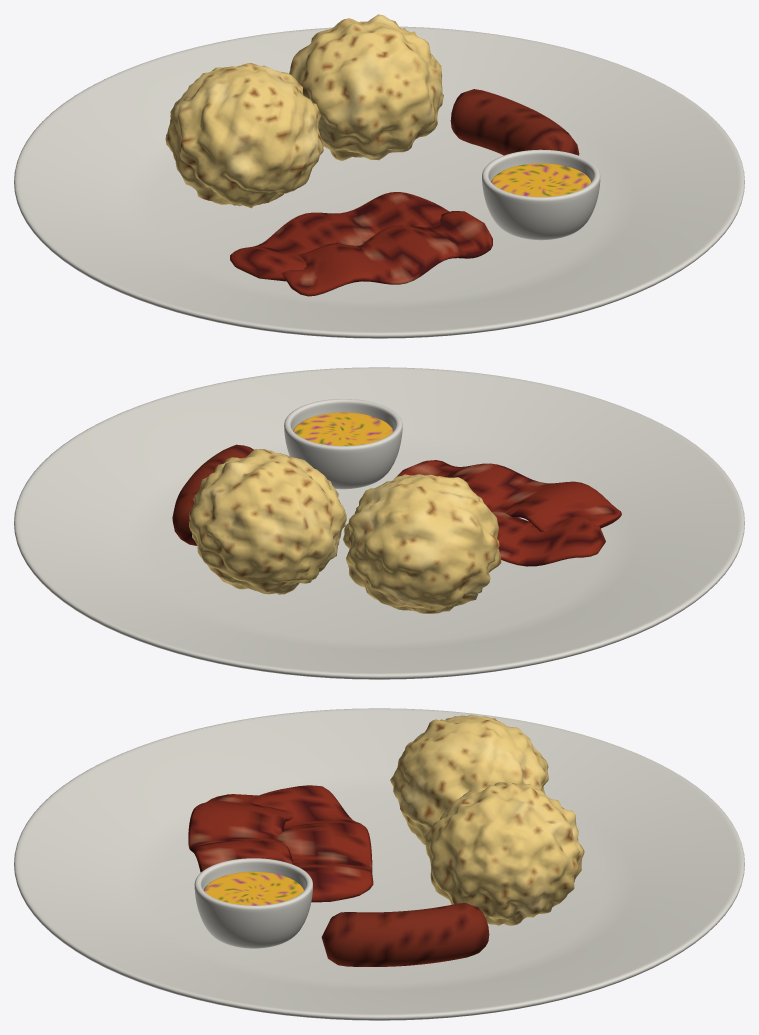
File: paso-5.glb
3 renders of one model, top to bottom at view 1: azimuth 30°, elevation 25°; view 2: azimuth 150°, elevation 25°; view 3: azimuth 270°, elevation 25°, orthographic.
Visible parts, largest first — view 1: paso-5-0, paso-5-1, paso-5-2, paso-5-4, paso-5-3, paso-5-6, paso-5-5, paso-5-7; view 2: paso-5-0, paso-5-1, paso-5-2, paso-5-4, paso-5-6, paso-5-3, paso-5-7, paso-5-5; view 3: paso-5-0, paso-5-2, paso-5-1, paso-5-5, paso-5-3, paso-5-6, paso-5-4, paso-5-7.
Part boxes in pixels (x1=…): paso-5-0: x1=14, y1=26, x2=744, y2=338; paso-5-1: x1=165, y1=63, x2=323, y2=208; paso-5-2: x1=289, y1=14, x2=443, y2=160; paso-5-4: x1=281, y1=211, x2=492, y2=296; paso-5-3: x1=230, y1=192, x2=449, y2=281; paso-5-6: x1=482, y1=149, x2=600, y2=240; paso-5-5: x1=450, y1=89, x2=579, y2=155; paso-5-7: x1=491, y1=163, x2=591, y2=196; paso-5-0: x1=14, y1=367, x2=744, y2=679; paso-5-1: x1=343, y1=474, x2=501, y2=613; paso-5-2: x1=189, y1=449, x2=346, y2=594; paso-5-4: x1=397, y1=460, x2=621, y2=531; paso-5-6: x1=284, y1=399, x2=402, y2=489; paso-5-3: x1=492, y1=511, x2=605, y2=566; paso-5-7: x1=293, y1=412, x2=393, y2=445; paso-5-5: x1=172, y1=444, x2=253, y2=545; paso-5-0: x1=14, y1=708, x2=744, y2=1020; paso-5-2: x1=425, y1=781, x2=584, y2=925; paso-5-1: x1=390, y1=714, x2=548, y2=844; paso-5-5: x1=321, y1=903, x2=489, y2=966; paso-5-3: x1=251, y1=785, x2=373, y2=902; paso-5-6: x1=194, y1=858, x2=312, y2=948; paso-5-4: x1=188, y1=794, x2=293, y2=872; paso-5-7: x1=203, y1=871, x2=303, y2=905.
Bounding box in the file's own units: 0.32 × 0.0658 × 0.32.
